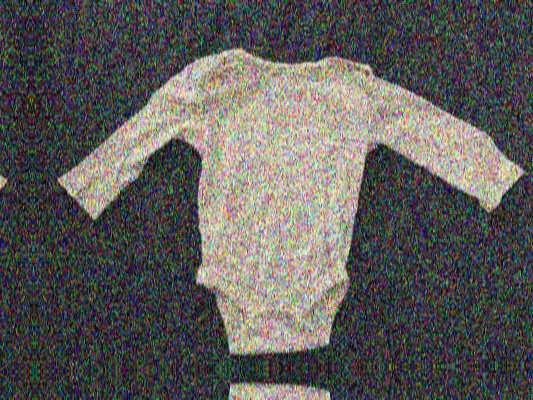Body: (58, 20, 531, 367), (62, 370, 533, 400), (0, 27, 6, 374), (0, 377, 11, 400)
